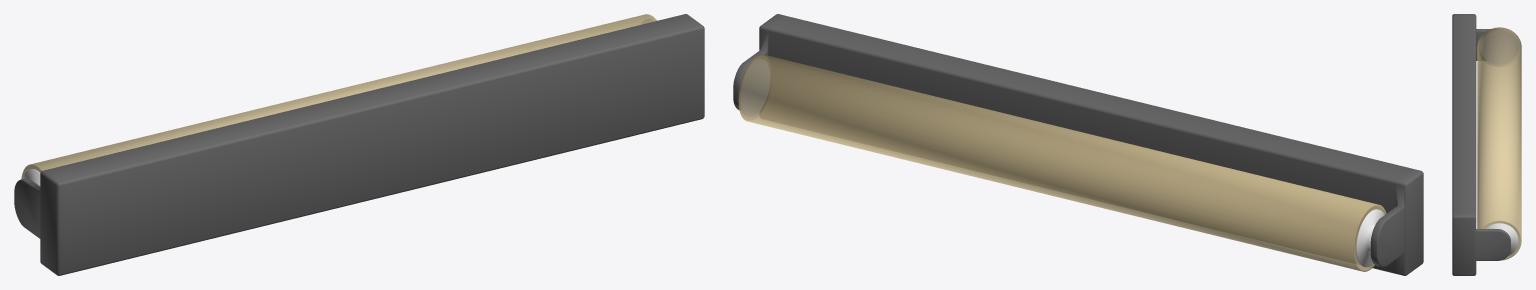
Rendered from ART_WallLight01.fbx.
3 renders of one model, left to right at view 1: azimuth 30°, elevation 25°; view 2: azimuth 150°, elevation 25°; view 3: azimuth 270°, elevation 25°, orthographic. The views are drawn at different scales.
Visible parts, largest first — view 1: Cube, Cylinder; view 2: Cylinder, Cube; view 3: Cylinder, Cube.
Boxes of the visible parts, <box> form: Cube: <box>14,14,704,275</box>; Cylinder: <box>21,14,657,185</box>; Cylinder: <box>738,54,1386,271</box>; Cube: <box>733,14,1423,275</box>; Cylinder: <box>1477,27,1521,260</box>; Cube: <box>1452,14,1510,275</box>.
Size of the model in its own units: 220 by 30.34 by 31.81.
